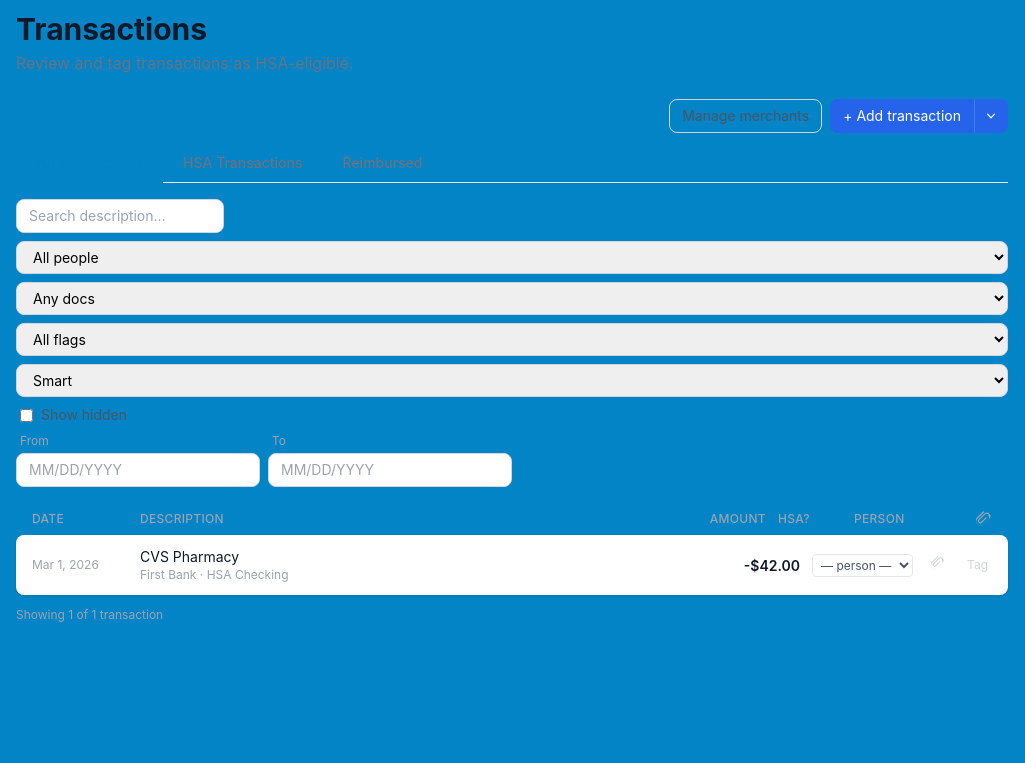
Scenario: Transactions page › category filter › shows Smart mode hidden status when category is smart-hidden
Expected: the text "CVS Pharmacy" is shown, [140,548,239,565]
Select "Dining" in the 4th dropdown showing "Smart" at (512, 380), box [16,364,1008,397]
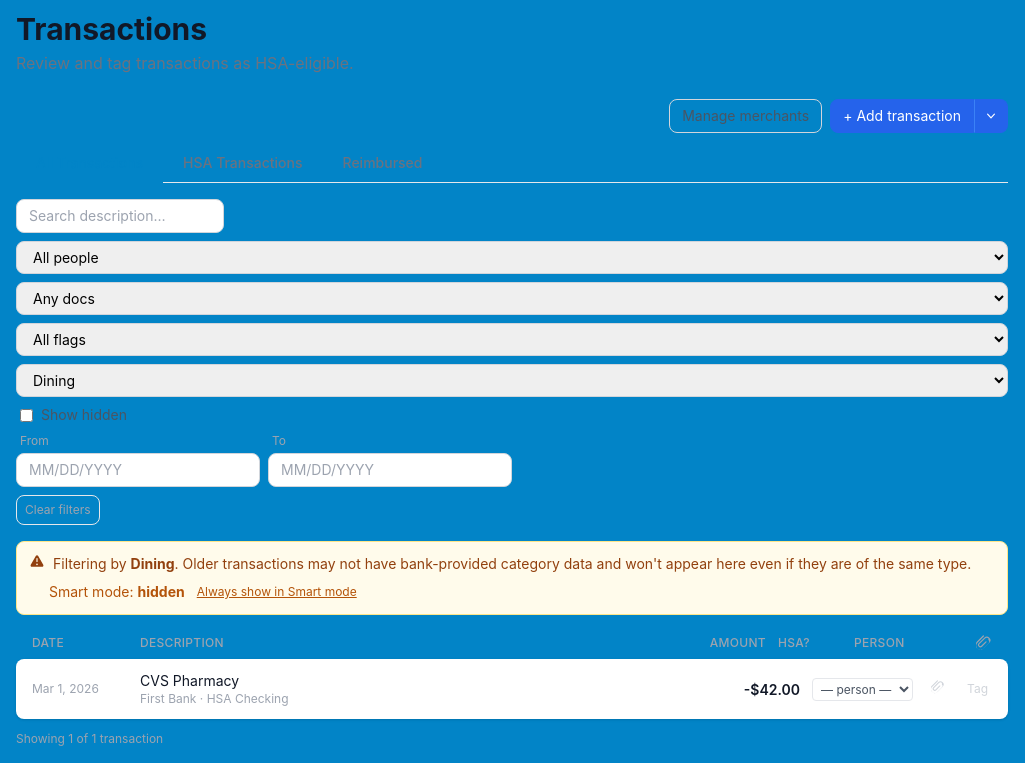
Expected: the button "Always show in Smart mode" is shown, [197,584,357,600]
Expected: the text "Smart mode: hidden" is shown, [49,582,185,602]
